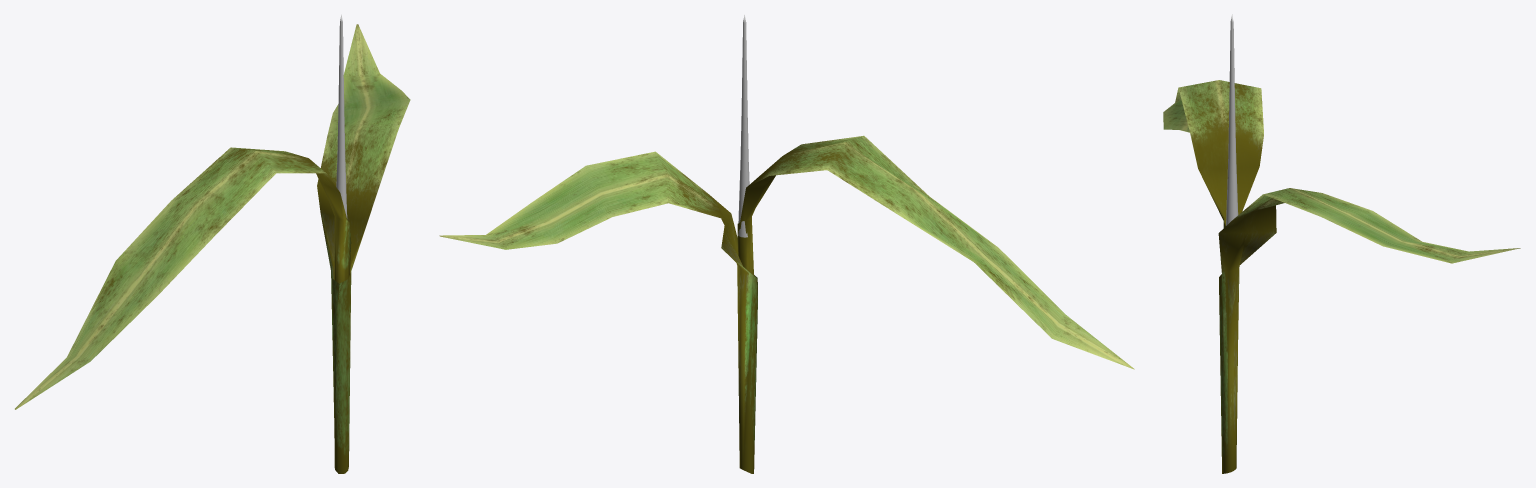
File: PorumbStage0.fbx
3 renders of one model, left to right at view 1: azimuth 30°, elevation 25°; view 2: azimuth 150°, elevation 25°; view 3: azimuth 270°, elevation 25°, orthographic.
Parts seen in each view (by area): view 1: SM_Plant_04; view 2: SM_Plant_04; view 3: SM_Plant_04.
Part boxes in pixels (left/top/right/bottom): SM_Plant_04: left=15, top=14, right=410, bottom=473; SM_Plant_04: left=439, top=15, right=1134, bottom=473; SM_Plant_04: left=1163, top=14, right=1520, bottom=473.
Size of the model in its own units: 38.63 by 23 by 32.63.
